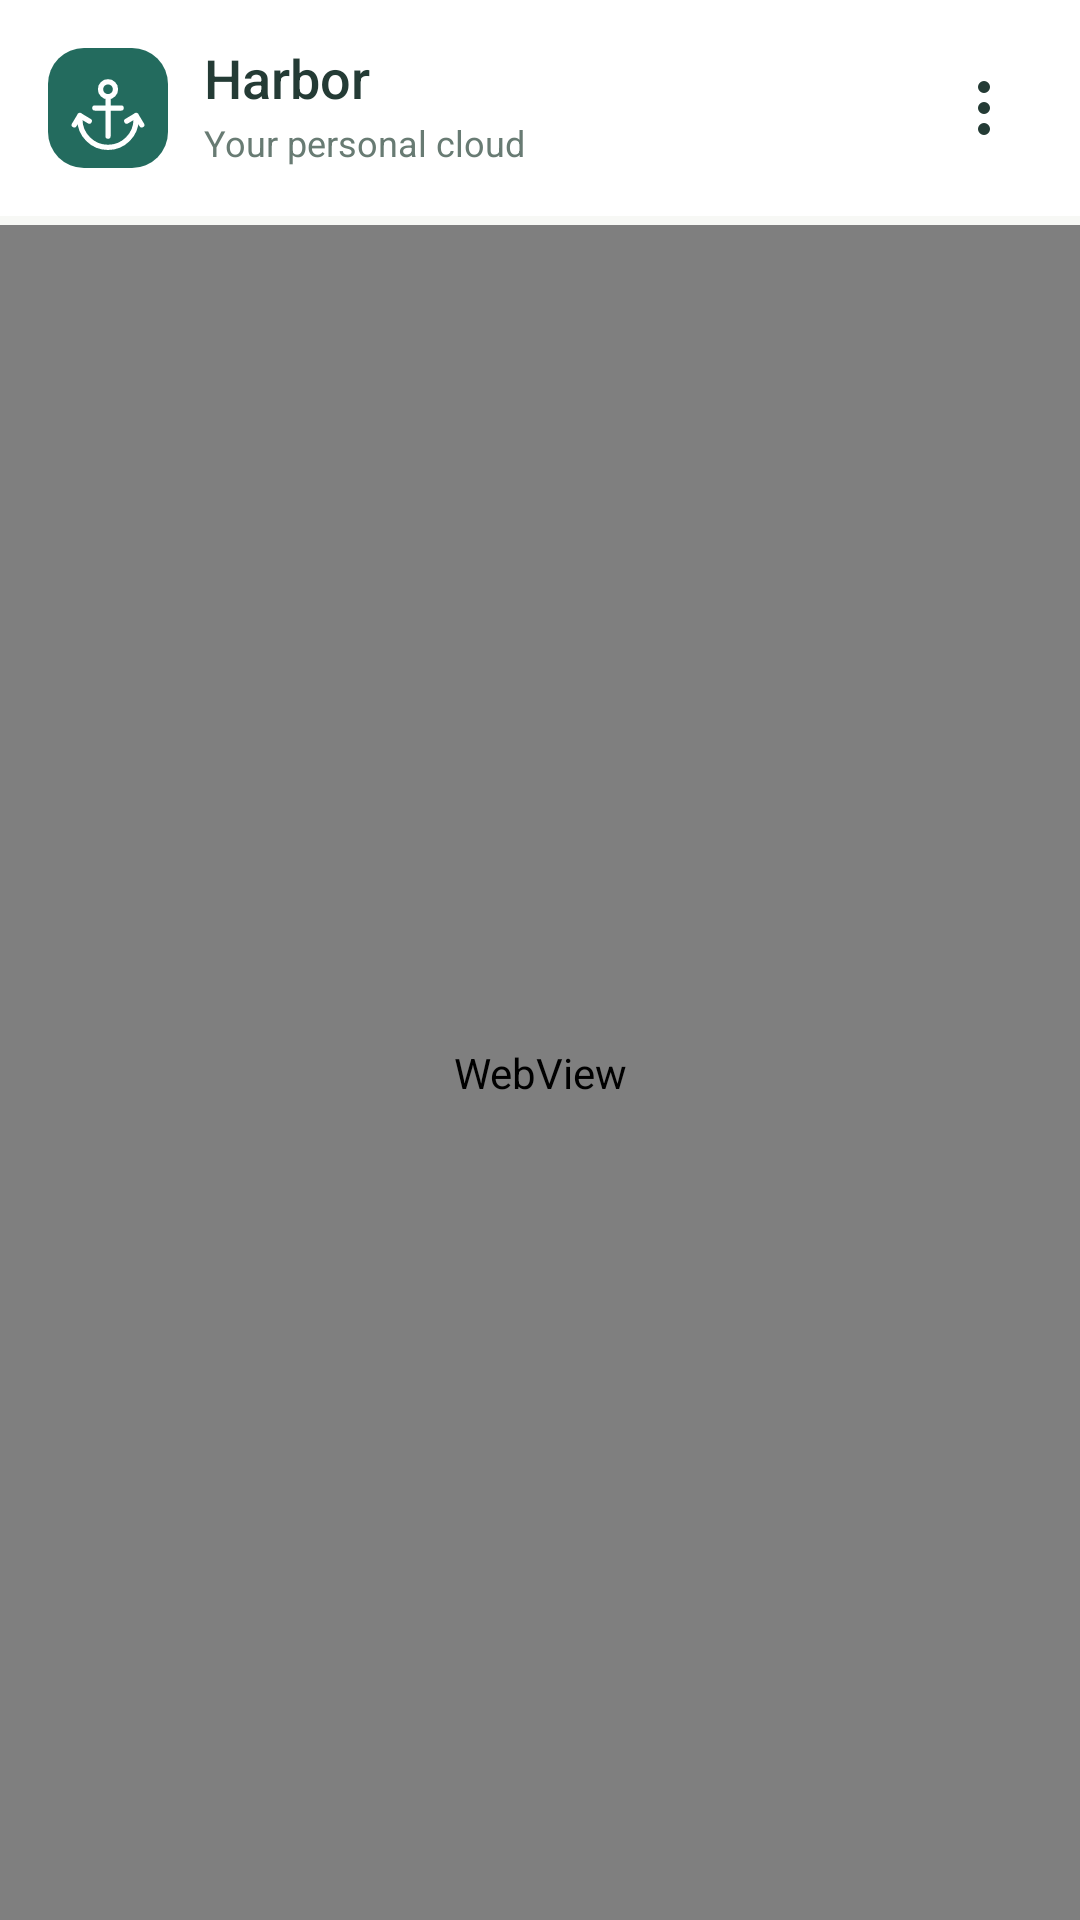

Point at icon controls on the screen. Image size 1080 × 1920, points as (x=x, y=y).
anchor: (x=108, y=108)
Server options: (x=984, y=108)
